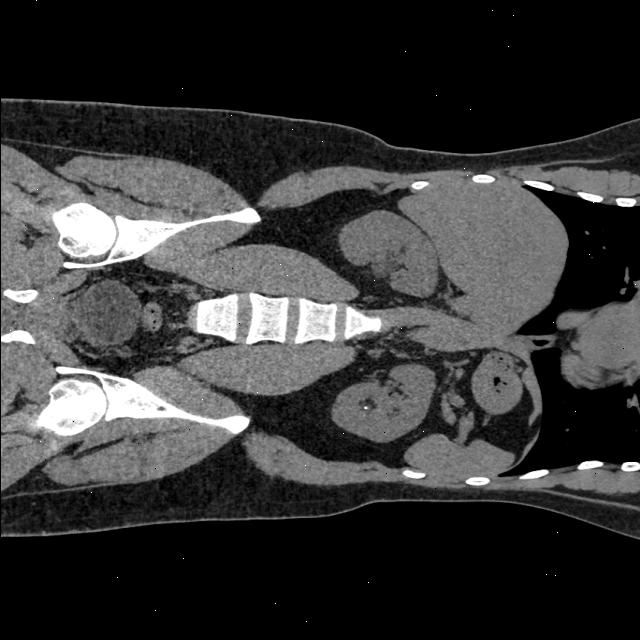kidneystone: (358, 400, 374, 411)
